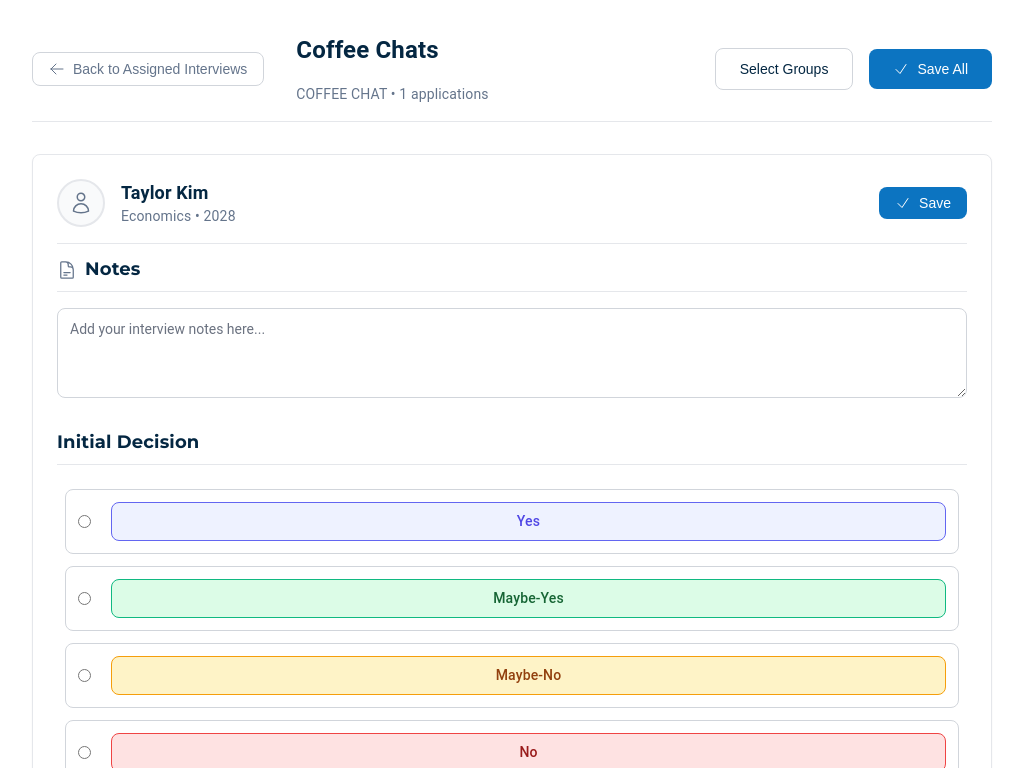
Scenario: MemberInterviewInterface › says the groups failed to load rather than that there are none
Expected: the heading "Taylor Kim" is shown, [121,182,208,203]
Click the button "Select Groups" at (784, 68), box [715,48,853,90]
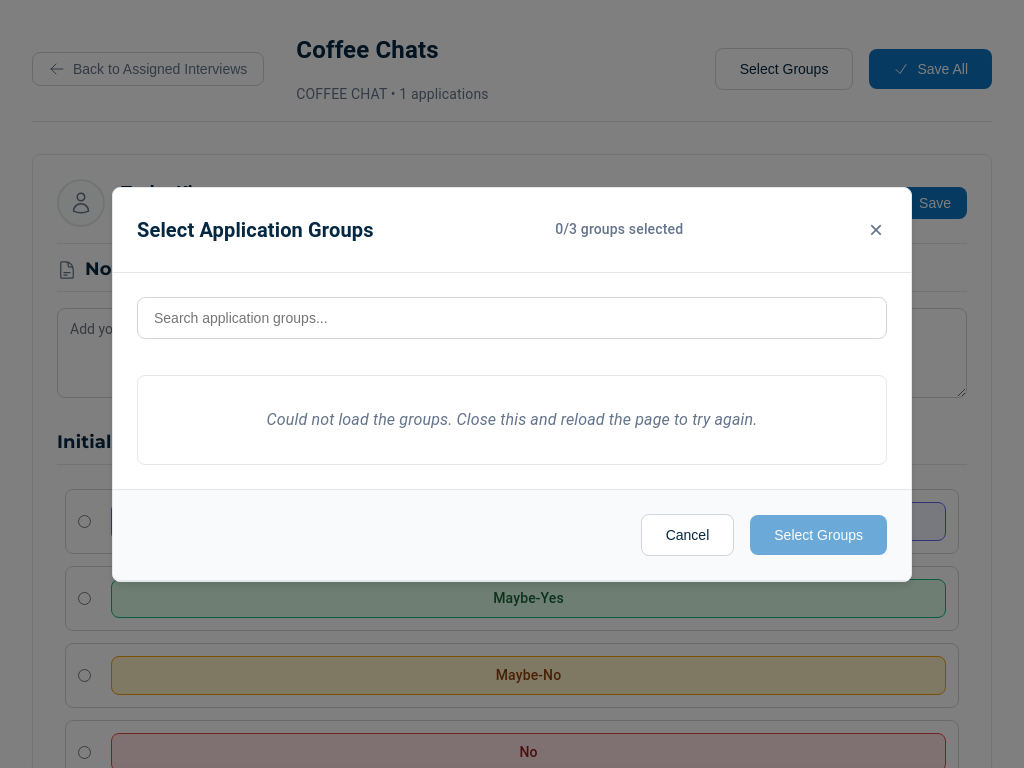
Expected: the text "Could not load the groups" is shown, [266,410,757,428]
